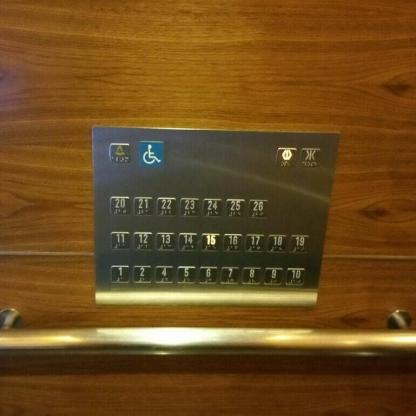1: (110, 264, 130, 283)
10: (285, 267, 304, 285)
11: (110, 232, 131, 249)
12: (133, 232, 153, 249)
13: (155, 232, 174, 250)
14: (178, 233, 197, 250)
15: (201, 233, 220, 251)
16: (223, 233, 242, 252)
17: (245, 234, 264, 252)
18: (267, 234, 286, 252)
19: (290, 235, 309, 253)
2: (132, 265, 151, 283)
20: (109, 196, 130, 215)
21: (133, 197, 153, 216)
22: (156, 197, 176, 216)
23: (180, 198, 200, 216)
24: (202, 198, 222, 217)
25: (225, 198, 245, 217)
26: (247, 199, 269, 218)
4: (154, 265, 173, 283)
5: (178, 266, 196, 282)
6: (198, 266, 216, 284)
7: (220, 266, 238, 284)
8: (241, 267, 260, 284)
9: (264, 267, 282, 284)
CH: (138, 140, 164, 166)
alarm: (107, 143, 130, 163)
close: (298, 146, 320, 168)
open: (275, 146, 297, 168)
